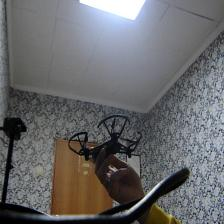drone: (65, 111, 145, 181)
